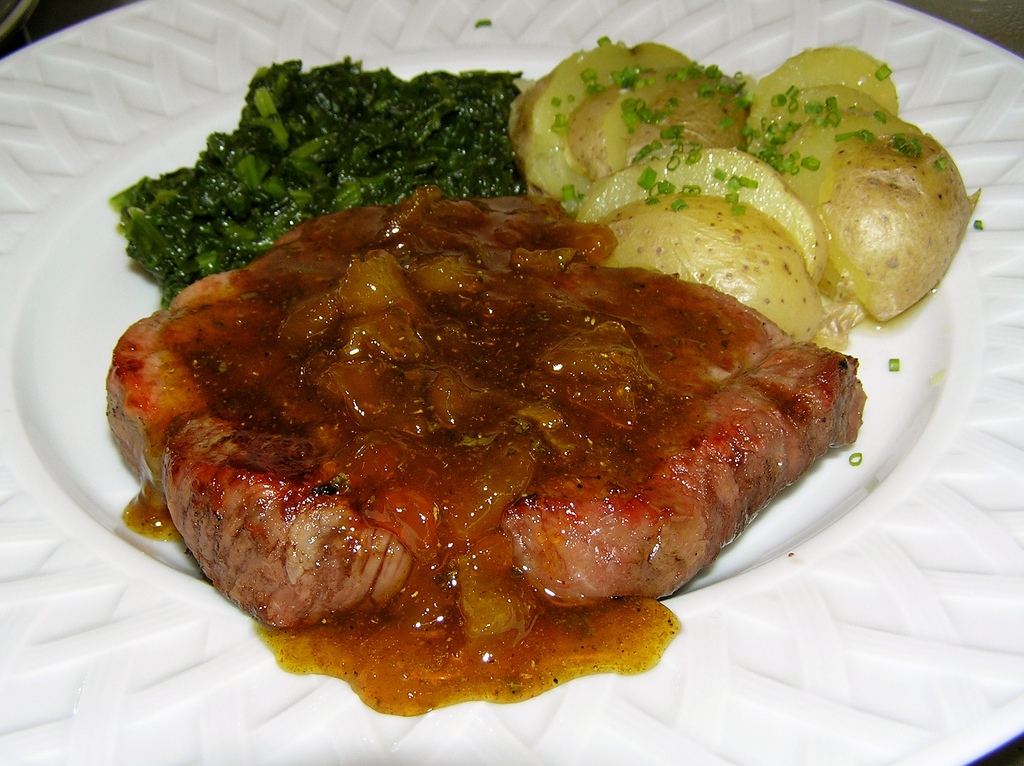boiled potatoes: (537, 54, 960, 278)
chopped lettuce: (206, 101, 481, 178)
